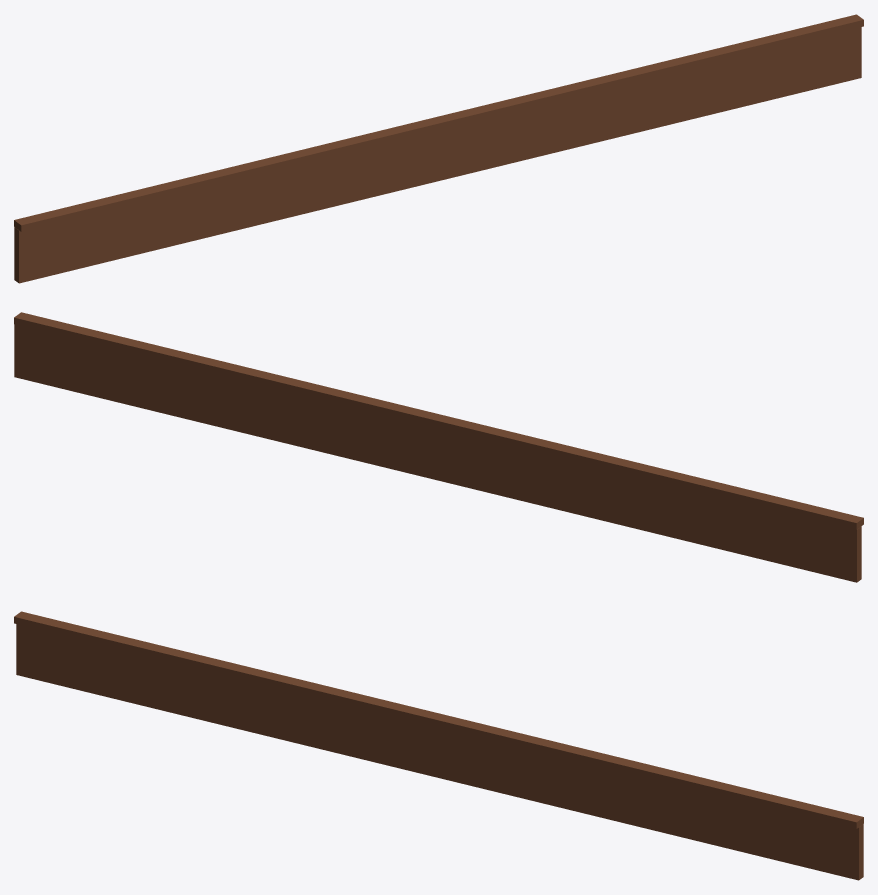
File: SM_P2_Baseboard_2m.obj
The picture shows the model from 3 angles, top to bottom: view 1: azimuth 30°, elevation 25°; view 2: azimuth 150°, elevation 25°; view 3: azimuth 330°, elevation 25°; orthographic projection.
Parts seen in each view (by area): view 1: board_body, board_cap; view 2: board_body, board_cap; view 3: board_body, board_cap.
Part boxes in pixels (x1=…): board_body: x1=14, y1=27, x2=861, y2=283; board_cap: x1=14, y1=14, x2=863, y2=231; board_body: x1=14, y1=324, x2=861, y2=582; board_cap: x1=14, y1=312, x2=863, y2=529; board_body: x1=16, y1=624, x2=863, y2=880; board_cap: x1=14, y1=611, x2=863, y2=828.
Size of the model in its own units: 2 by 0.1355 by 0.03.
